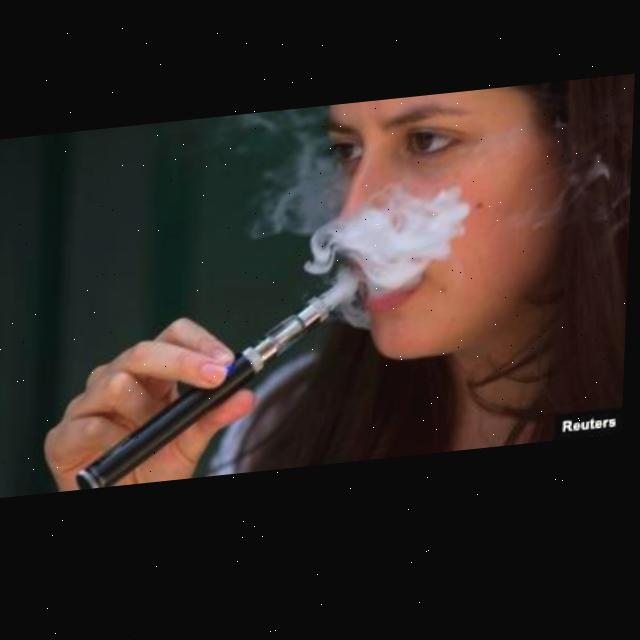vape: (79, 290, 355, 493)
